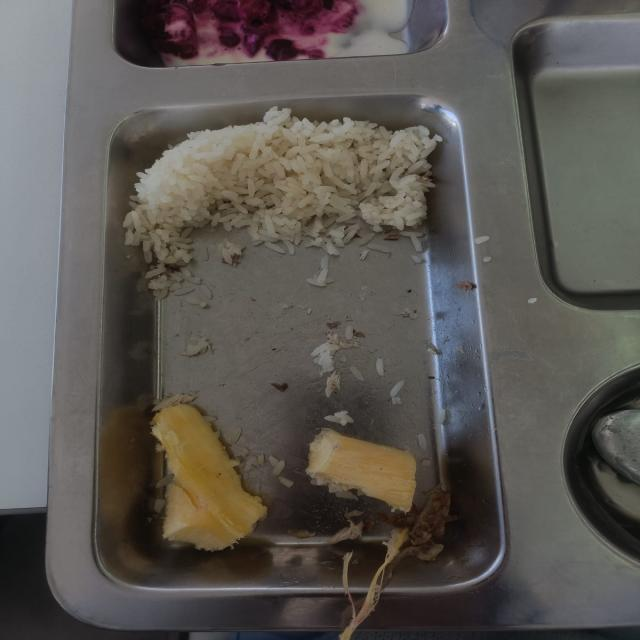arroz: (123, 107, 440, 299), (221, 242, 242, 265), (317, 281, 324, 286), (180, 274, 186, 279), (275, 248, 280, 249)
yuca: (152, 404, 266, 550), (308, 434, 414, 506), (166, 498, 178, 525), (338, 489, 348, 490), (318, 436, 319, 439), (379, 486, 380, 488), (325, 434, 327, 435), (172, 512, 173, 513), (172, 498, 173, 499), (376, 490, 377, 491), (413, 486, 414, 487)
